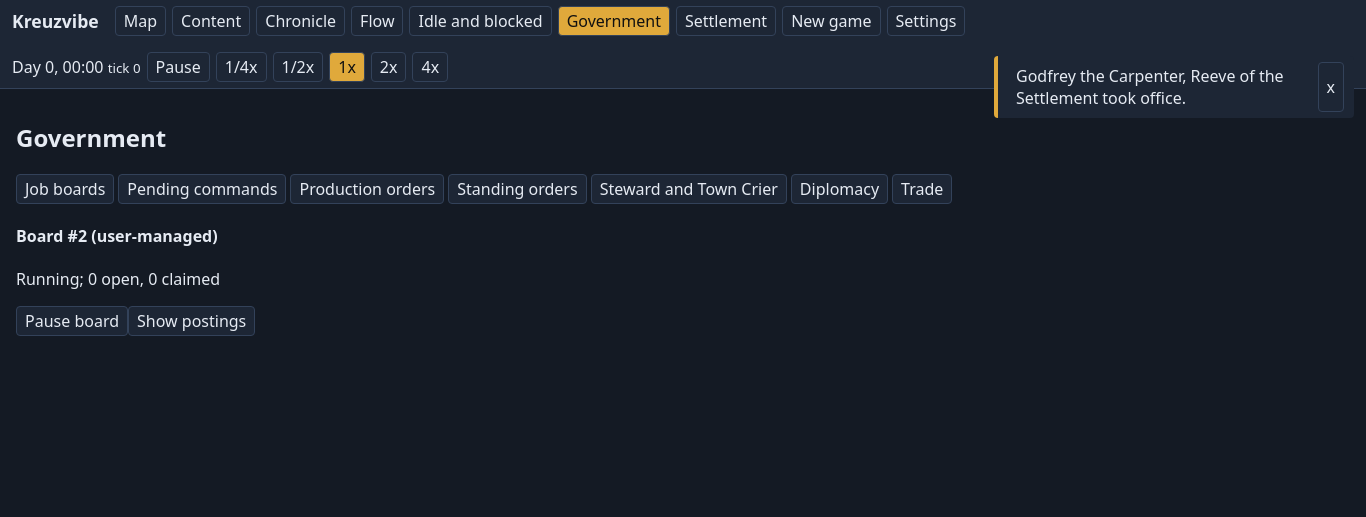
Test: TradeTab › shows the treasury and when the next trader comes while none is here
Click the tab "Trade" at (922, 189), box [892,174,952,204]
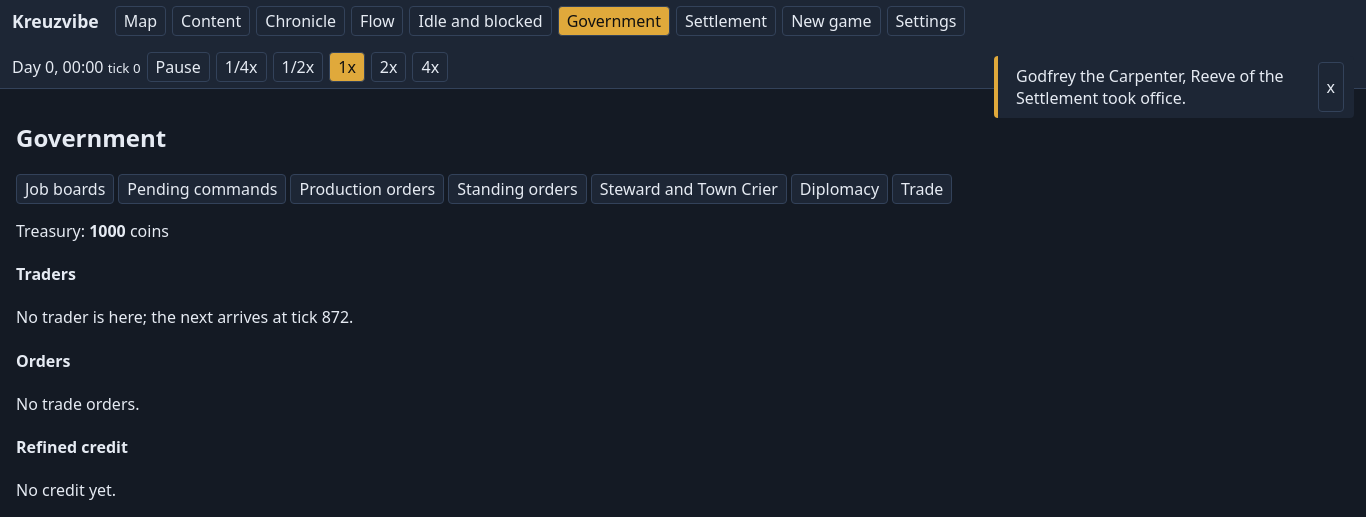
expect the text "1000" is shown: met, box [89,220,126,242]
expect the text "No trader is here; the next arrives at tick 872." is shown: met, box [16,306,353,328]
expect the text "No trade orders." is shown: met, box [16,393,140,415]
